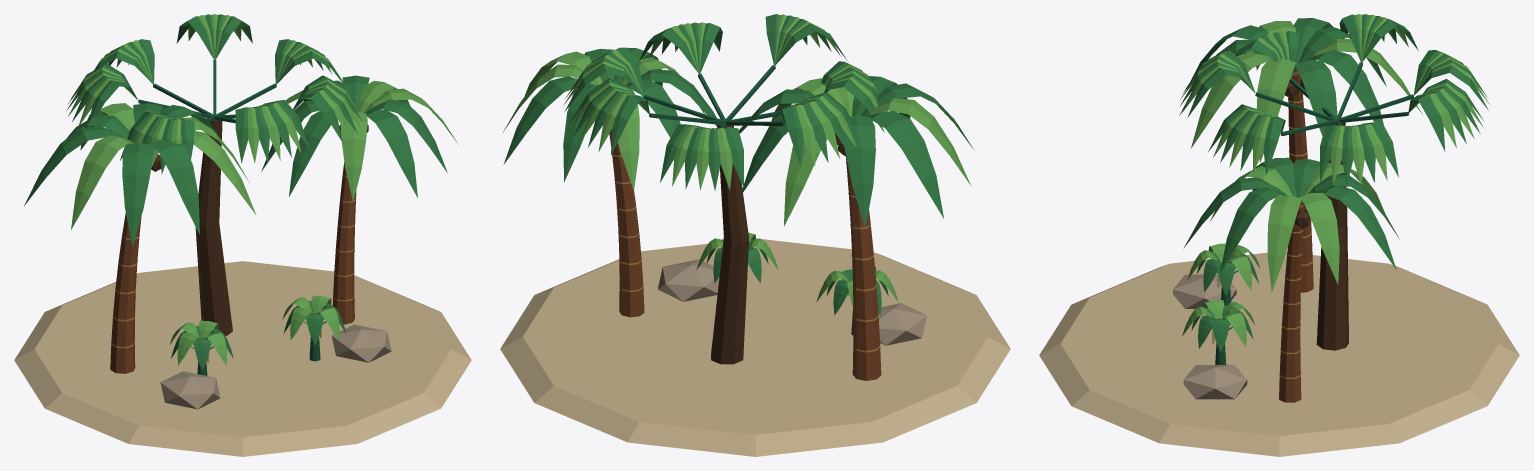
The model's file is Tropical_PalmGrove_Showcase.glb.
The picture shows the model from 3 angles, left to right: view 1: azimuth 30°, elevation 25°; view 2: azimuth 150°, elevation 25°; view 3: azimuth 270°, elevation 25°; orthographic projection. The views are drawn at different scales.
Visible parts, largest first — view 1: Tropical_PalmGrove_Showcase; view 2: Tropical_PalmGrove_Showcase; view 3: Tropical_PalmGrove_Showcase.
Boxes of the visible parts, x1,y1,x2,y2 form: Tropical_PalmGrove_Showcase: (14, 14, 471, 456); Tropical_PalmGrove_Showcase: (500, 14, 1010, 456); Tropical_PalmGrove_Showcase: (1039, 14, 1519, 456).
Bounding box in the file's own units: 9.35 × 6.03 × 9.
